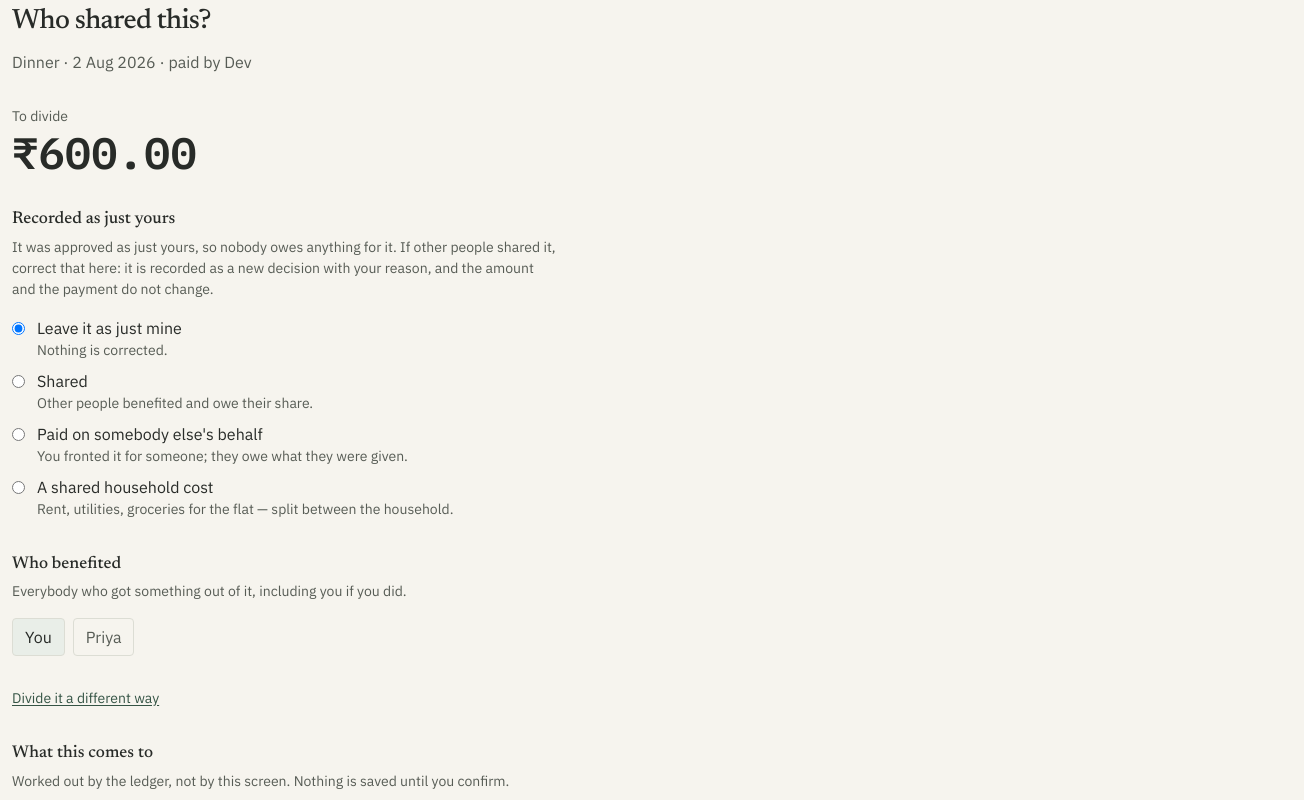
Test case: correcting an expense approved as just yours › asks the ledger what it would come to as if corrected, and blocks a correction naming only the payer
Expected: the heading "Recorded as just yours" is shown, [12,211,175,228]
Step 1. Click the radio button labelled "Shared Other people benefited and owe their share." → (18, 381), box [12,374,25,388]
(page scrolled)
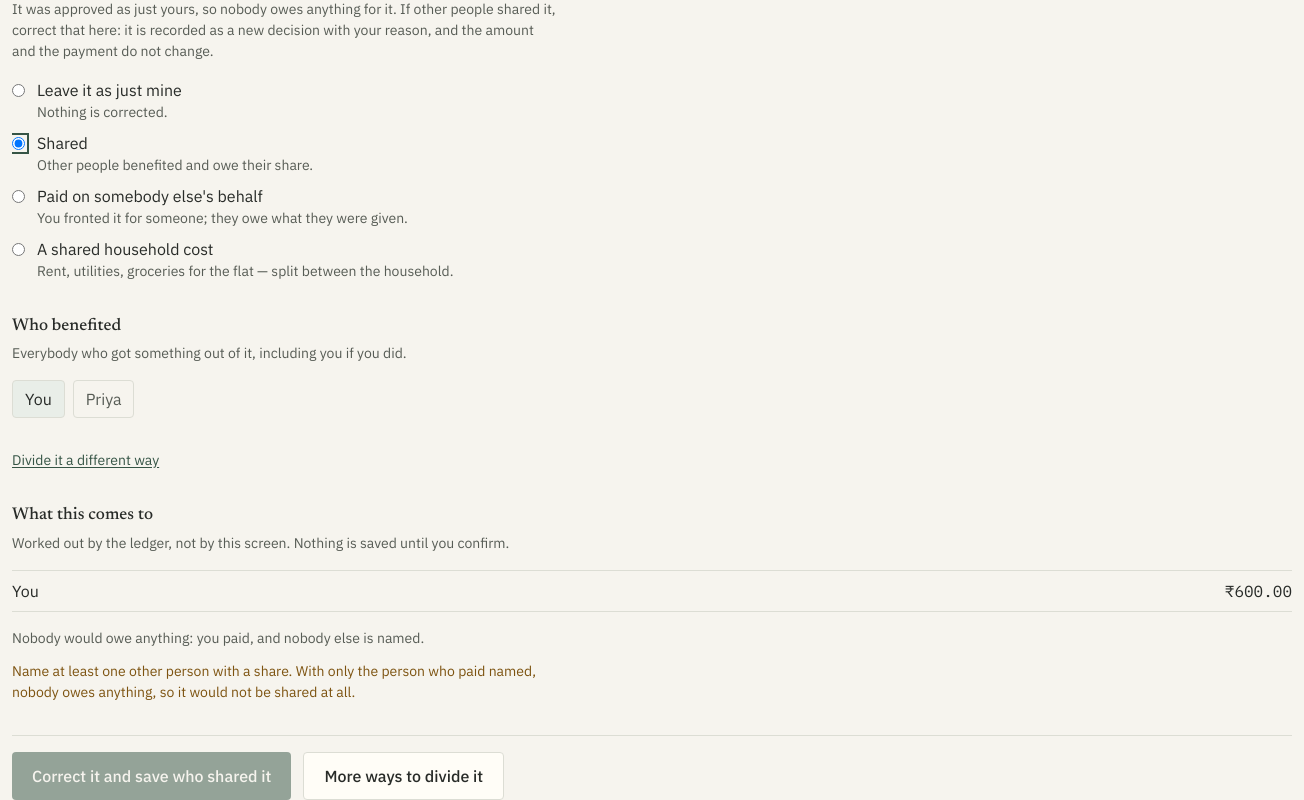
Now the text "Name at least one other person with a share" is shown, box [12,662,536,700]
Now the button "Correct it and save who shared it" is disabled, box [12,752,292,799]
